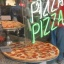pepperoni: (9, 50, 38, 58), (33, 44, 55, 52)
pizza: (3, 38, 59, 59)
